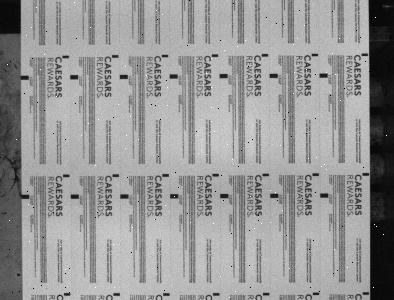qblock: (270, 73, 279, 78), (170, 193, 179, 198), (220, 193, 229, 198), (120, 74, 128, 79), (320, 73, 328, 78), (170, 74, 178, 79), (271, 193, 279, 198), (21, 75, 29, 80), (120, 194, 129, 198), (320, 193, 329, 197), (70, 75, 78, 79), (220, 74, 228, 78), (71, 194, 79, 198), (21, 194, 29, 198)
smallqblock: (213, 292, 221, 296), (262, 53, 269, 57), (162, 54, 169, 58), (163, 173, 170, 177), (363, 172, 370, 176), (64, 292, 71, 296), (363, 291, 370, 295), (163, 293, 171, 296), (62, 55, 69, 58), (212, 54, 219, 57), (63, 174, 70, 177), (263, 173, 270, 176), (362, 53, 369, 56), (213, 173, 220, 176), (263, 292, 270, 295), (313, 292, 320, 295), (113, 293, 120, 296), (112, 55, 119, 58), (113, 174, 119, 177), (313, 173, 319, 176), (312, 54, 319, 56)
